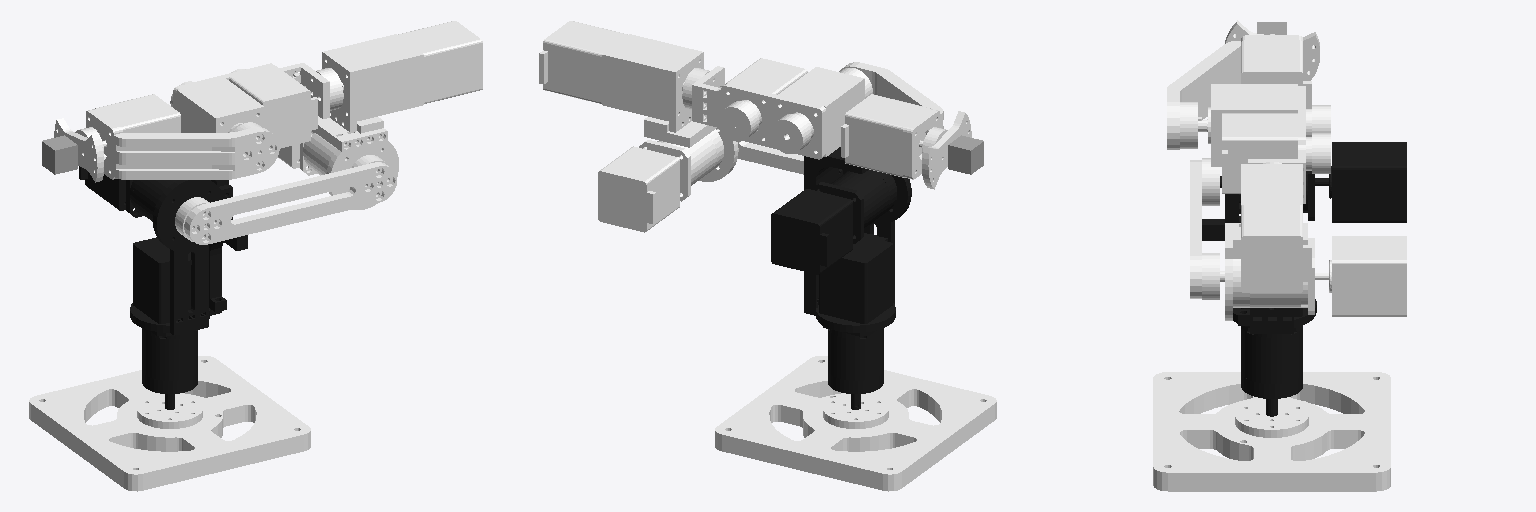
The robot description file, URDF, robot "arm":
<?xml version="1.0" encoding="utf-8"?>
<!-- This URDF was automatically created by SolidWorks to URDF Exporter! Originally created by Stephen Brawner (brawner@gmail.com)
     Commit Version: 1.6.0-4-g7f85cfe  Build Version: 1.6.7995.38578
     For more information, please see http://wiki.ros.org/sw_urdf_exporter -->
<robot
  name="arm">
  <link
    name="base_link">
    <inertial>
      <origin
        xyz="0.0799692719206064 0.00742234284803182 -0.0800188563158317"
        rpy="0 0 0" />
      <mass
        value="0.277082229693331" />
      <inertia
        ixx="0.000640578898397855"
        ixy="-1.24276281084089E-10"
        ixz="1.61994641783532E-07"
        iyy="0.001272259215904"
        iyz="-7.62622608677288E-11"
        izz="0.000640414321584489" />
    </inertial>
    <visual>
      <origin
        xyz="0 0 0"
        rpy="0 0 0" />
      <geometry>
        <mesh
          filename="../meshes/base_link.STL" />
      </geometry>
      <material
        name="">
        <color
          rgba="1 1 1 1" />
      </material>
    </visual>
    <collision>
      <origin
        xyz="0 0 0"
        rpy="0 0 0" />
      <geometry>
        <mesh
          filename="../meshes/base_link.STL" />
      </geometry>
    </collision>
  </link>
  <link
    name="j1_Link">
    <inertial>
      <origin
        xyz="-0.0036833069379518 -0.0113204704983923 0.112329221759019"
        rpy="0 0 0" />
      <mass
        value="0.427328177167994" />
      <inertia
        ixx="0.000222730550106212"
        ixy="5.67519633933631E-07"
        ixz="-1.28956949405357E-05"
        iyy="0.000221553691671987"
        iyz="-1.98569355983235E-06"
        izz="0.000125671939930893" />
    </inertial>
    <visual>
      <origin
        xyz="0 0 0"
        rpy="0 0 0" />
      <geometry>
        <mesh
          filename="../meshes/j1_Link.STL" />
      </geometry>
      <material
        name="">
        <color
          rgba="0.149019607843137 0.149019607843137 0.149019607843137 1" />
      </material>
    </visual>
    <collision>
      <origin
        xyz="0 0 0"
        rpy="0 0 0" />
      <geometry>
        <mesh
          filename="../meshes/j1_Link.STL" />
      </geometry>
    </collision>
  </link>
  <joint
    name="j1_joint"
    type="revolute">
    <origin
      xyz="0.08 0.08 0.039"
      rpy="0 0 3.1416" />
    <parent
      link="base_link" />
    <child
      link="j1_Link" />
    <axis
      xyz="0 0 -1" />
    <limit
      lower="-3.14"
      upper="3.14"
      effort="20"
      velocity="10" />
  </joint>
  <link
    name="j2_Link">
    <inertial>
      <origin
        xyz="-0.075 8.32667268468867E-17 0.00549028411063959"
        rpy="0 0 0" />
      <mass
        value="0.049647885023324" />
      <inertia
        ixx="4.41998835808082E-06"
        ixy="-1.59597238205593E-08"
        ixz="2.60951258563137E-20"
        iyy="8.74225632287352E-05"
        iyz="-2.25631452000887E-22"
        izz="9.10862086182486E-05" />
    </inertial>
    <visual>
      <origin
        xyz="0 0 0"
        rpy="0 0 0" />
      <geometry>
        <mesh
          filename="../meshes/j2_Link.STL" />
      </geometry>
      <material
        name="">
        <color
          rgba="1 1 1 1" />
      </material>
    </visual>
    <collision>
      <origin
        xyz="0 0 0"
        rpy="0 0 0" />
      <geometry>
        <mesh
          filename="../meshes/j2_Link.STL" />
      </geometry>
    </collision>
  </link>
  <joint
    name="j2_joint"
    type="revolute">
    <origin
      xyz="0 0.052981 0.153"
      rpy="1.5708 0 0" />
    <parent
      link="j1_Link" />
    <child
      link="j2_Link" />
    <axis
      xyz="0 0 1" />
    <limit
      lower="-3.14"
      upper="0"
      effort="20"
      velocity="10" />
  </joint>
  <link
    name="j3_Link">
    <inertial>
      <origin
        xyz="-0.026079401748195 0.031242688932016 0.0488675348398723"
        rpy="0 0 0" />
      <mass
        value="0.398881695490466" />
      <inertia
        ixx="0.000114207271101358"
        ixy="1.65864067823509E-08"
        ixz="3.29441913714483E-10"
        iyy="0.000137386834531283"
        iyz="-5.88002388024183E-10"
        izz="0.000133610435815113" />
    </inertial>
    <visual>
      <origin
        xyz="0 0 0"
        rpy="0 0 0" />
      <geometry>
        <mesh
          filename="../meshes/j3_Link.STL" />
      </geometry>
      <material
        name="">
        <color
          rgba="1 1 1 1" />
      </material>
    </visual>
    <collision>
      <origin
        xyz="0 0 0"
        rpy="0 0 0" />
      <geometry>
        <mesh
          filename="../meshes/j3_Link.STL" />
      </geometry>
    </collision>
  </link>
  <joint
    name="j3_joint"
    type="revolute">
    <origin
      xyz="-0.15 0 0.018"
      rpy="0 0 0" />
    <parent
      link="j2_Link" />
    <child
      link="j3_Link" />
    <axis
      xyz="0 0 1" />
    <limit
      lower="-3.14"
      upper="3.14"
      effort="20"
      velocity="10" />
  </joint>
  <link
    name="j4_Link">
    <inertial>
      <origin
        xyz="-0.00396142255227991 -1.13150731007039E-06 0.0774846361265533"
        rpy="0 0 0" />
      <mass
        value="0.24806031273061" />
      <inertia
        ixx="7.82639646693816E-05"
        ixy="1.87474734797647E-10"
        ixz="-3.30346842631339E-07"
        iyy="9.87684461379646E-05"
        iyz="6.45453531177455E-12"
        izz="8.58694464794496E-05" />
    </inertial>
    <visual>
      <origin
        xyz="0 0 0"
        rpy="3.14 0 0" />
      <geometry>
        <mesh
          filename="../meshes/j4_Link.STL" />
      </geometry>
      <material
        name="">
        <color
          rgba="1 1 1 1" />
      </material>
    </visual>
    <collision>
      <origin
        xyz="0 0 0"
        rpy="0 0 0" />
      <geometry>
        <mesh
          filename="../meshes/j4_Link.STL" />
      </geometry>
    </collision>
  </link>
  <joint
    name="j4_joint"
    type="revolute">
    <origin
      xyz="0.009 0.059361 0.035"
      rpy="0 -1.5708 0" />
    <parent
      link="j3_Link" />
    <child
      link="j4_Link" />
    <axis
      xyz="0 0 1" />
    <limit
      lower="-3.14"
      upper="3.14"
      effort="20"
      velocity="10" />
  </joint>
  <link
    name="j5_Link">
    <inertial>
      <origin
        xyz="0.0578982628392957 2.75447619713098E-07 0.0338729548732184"
        rpy="0 0 0" />
      <mass
        value="0.147033399849657" />
      <inertia
        ixx="6.28093845924348E-05"
        ixy="6.80975464642396E-09"
        ixz="-3.56707966291563E-05"
        iyy="0.000119812074657324"
        iyz="6.45448935546482E-12"
        izz="9.53475389656801E-05" />
    </inertial>
    <visual>
      <origin
        xyz="0 0 0"
        rpy="0 0 0" />
      <geometry>
        <mesh
          filename="../meshes/j5_Link.STL" />
      </geometry>
      <material
        name="">
        <color
          rgba="1 1 1 1" />
      </material>
    </visual>
    <collision>
      <origin
        xyz="0 0 0"
        rpy="0 0 0" />
      <geometry>
        <mesh
          filename="../meshes/j5_Link.STL" />
      </geometry>
    </collision>
  </link>
  <joint
    name="j5_joint"
    type="revolute">
    <origin
      xyz="-0.05 0 -0.104"
      rpy="0 1.5708 0" />
    <parent
      link="j4_Link" />
    <child
      link="j5_Link" />
    <axis
      xyz="0 0 -1" />
    <limit
      lower="-2.2"
      upper="2.2"
      effort="20"
      velocity="10" />
  </joint>
  <link
    name="j6_Link">
    <inertial>
      <origin
        xyz="-1.31949620674199E-09 -4.83060440537031E-08 -0.00986296292298143"
        rpy="0 0 0" />
      <mass
        value="0.0156026251336038" />
      <inertia
        ixx="1.1107438773741E-06"
        ixy="4.46773161834023E-07"
        ixz="-2.7476667950192E-21"
        iyy="3.87494063154076E-06"
        iyz="3.32665424113243E-22"
        izz="4.82680740672266E-06" />
    </inertial>
    <visual>
      <origin
        xyz="0 0 0"
        rpy="0 0 0" />
      <geometry>
        <mesh
          filename="../meshes/j6_Link.STL" />
      </geometry>
      <material
        name="">
        <color
          rgba="1 1 1 1" />
      </material>
    </visual>
    <collision>
      <origin
        xyz="0 0 0"
        rpy="0 0 0" />
      <geometry>
        <mesh
          filename="../meshes/j6_Link.STL" />
      </geometry>
    </collision>
  </link>
  <joint
    name="j6_joint"
    type="revolute">
    <origin
      xyz="0.1025 0 0.05"
      rpy="3.1416 1.5708 0" />
    <parent
      link="j5_Link" />
    <child
      link="j6_Link" />
    <axis
      xyz="0 0 -1" />
    <limit
      lower="-3.14"
      upper="3.14"
      effort="20"
      velocity="10" />
  </joint>
  <!-- 末端执行器链接 -->
<link name="ee_center_link">
  <inertial>
    <origin xyz="0 0 0" rpy="0 0 0"/>
    <mass value="0.01"/>
    <inertia ixx="1e-6" ixy="0" ixz="0" iyy="1e-6" iyz="0" izz="1e-6"/>
  </inertial>
  <visual>
    <origin xyz="0 0 0" rpy="0 0 0"/>
    <geometry>
      <box size="0.02 0.02 0.02"/>
    </geometry>
  </visual>
</link>

<!-- 末端执行器到j6的固定关节 -->
<joint name="ee_fixed_joint" type="fixed">
  <origin xyz="0 0 -0.03" rpy="0 0 0"/>
  <parent link="j6_Link"/>
  <child link="ee_center_link"/>
</joint>
</robot>

--- Render facts (derived) ---
3 views of the same robot in one strip: view 1: azimuth 30°, elevation 25°; view 2: azimuth 150°, elevation 25°; view 3: azimuth 270°, elevation 25° (orthographic).
Robot: arm — 8 links, 7 joints (6 revolute, 1 fixed); root link base_link; default pose: all joints at 0.
Links seen in each view (by area): view 1: base_link, j1_Link, j3_Link, j5_Link, j4_Link, j2_Link, j6_Link, ee_center_link; view 2: base_link, j1_Link, j3_Link, j4_Link, j5_Link, j6_Link, j2_Link, ee_center_link; view 3: base_link, j3_Link, j1_Link, j4_Link, j5_Link, j2_Link, j6_Link.
Boxes of the visible links, box(x1,y1,x2,y2) form: base_link: box(29, 356, 310, 491); j1_Link: box(79, 166, 247, 409); j3_Link: box(278, 21, 482, 209); j5_Link: box(86, 94, 279, 179); j4_Link: box(170, 63, 343, 148); j2_Link: box(175, 155, 396, 244); j6_Link: box(54, 118, 103, 182); ee_center_link: box(42, 135, 77, 174); base_link: box(715, 356, 996, 491); j1_Link: box(771, 147, 911, 409); j3_Link: box(539, 21, 738, 232); j4_Link: box(682, 58, 864, 159); j5_Link: box(839, 62, 943, 179); j6_Link: box(922, 111, 971, 189); j2_Link: box(738, 141, 803, 174); ee_center_link: box(948, 135, 983, 174); base_link: box(1153, 372, 1390, 491); j3_Link: box(1220, 164, 1406, 320); j1_Link: box(1202, 142, 1406, 416); j4_Link: box(1198, 84, 1330, 203); j5_Link: box(1167, 35, 1311, 149); j2_Link: box(1190, 158, 1219, 299); j6_Link: box(1225, 20, 1319, 80).
Bounding box of the posed robot: 0.364 × 0.1705 × 0.2739 m (x, y, z).
7 mesh visuals loaded from 7 distinct referenced files (7 binary STL).
